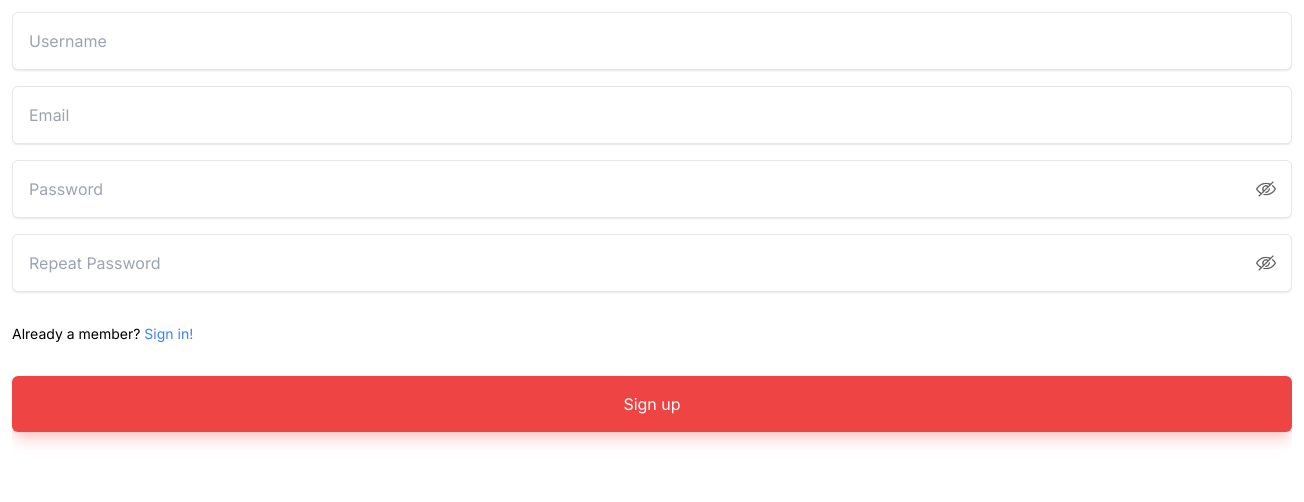
Test: <SignupForm /> › 1. Displays error message for empty username
Type "test@example.com" into the field with test id "InputField.Input" showing "Email" at (652,115), box [12, 86, 1292, 144]
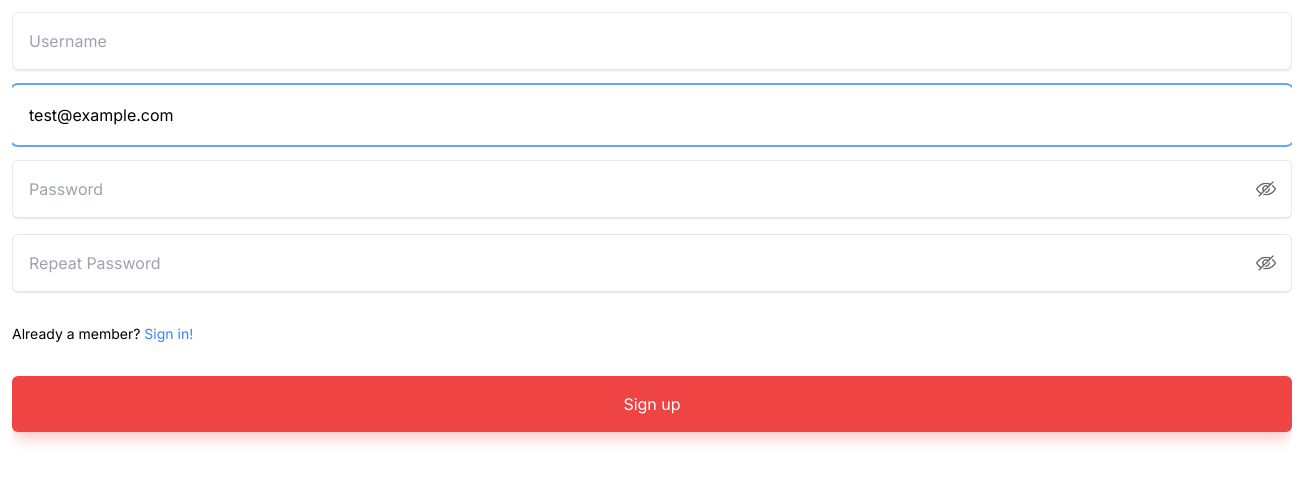
Type "Password1!" into the password field with test id "PasswordInput.Input" showing "Password" at (652,189), box [12, 160, 1292, 218]
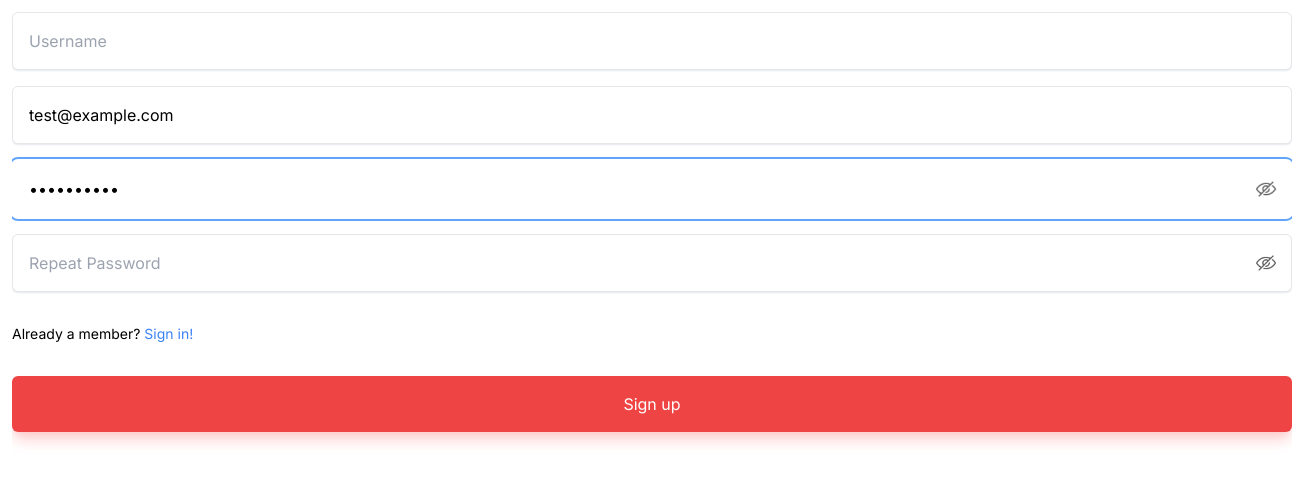
Type "Password1!" into the password field with test id "PasswordInput.Input" showing "Repeat Password" at (652,263), box [12, 234, 1292, 292]
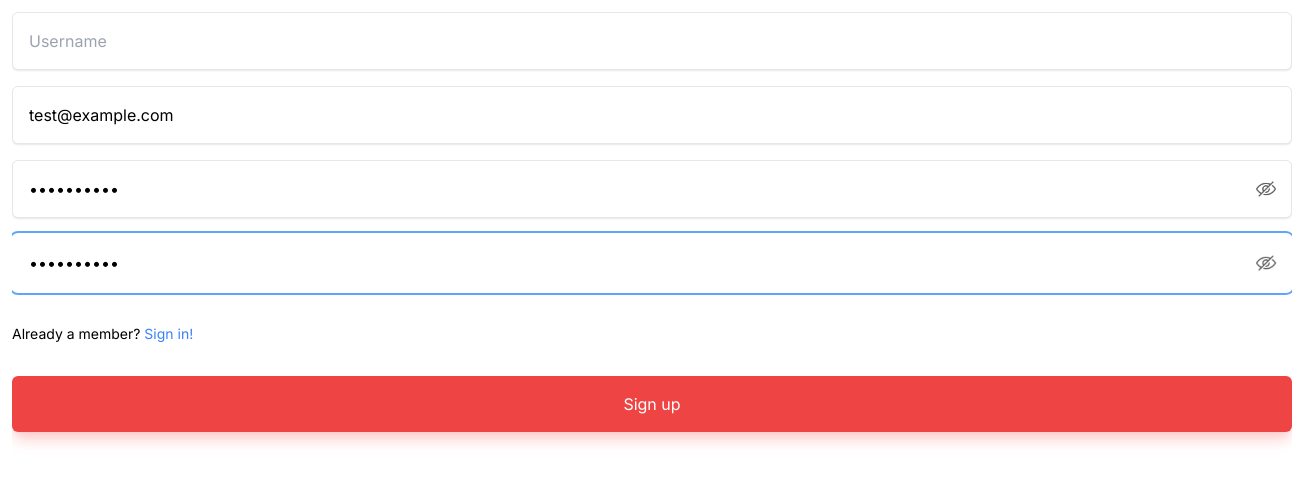
Click the button with test id "SubmittingButton" at (652,404), box [12, 376, 1292, 432]
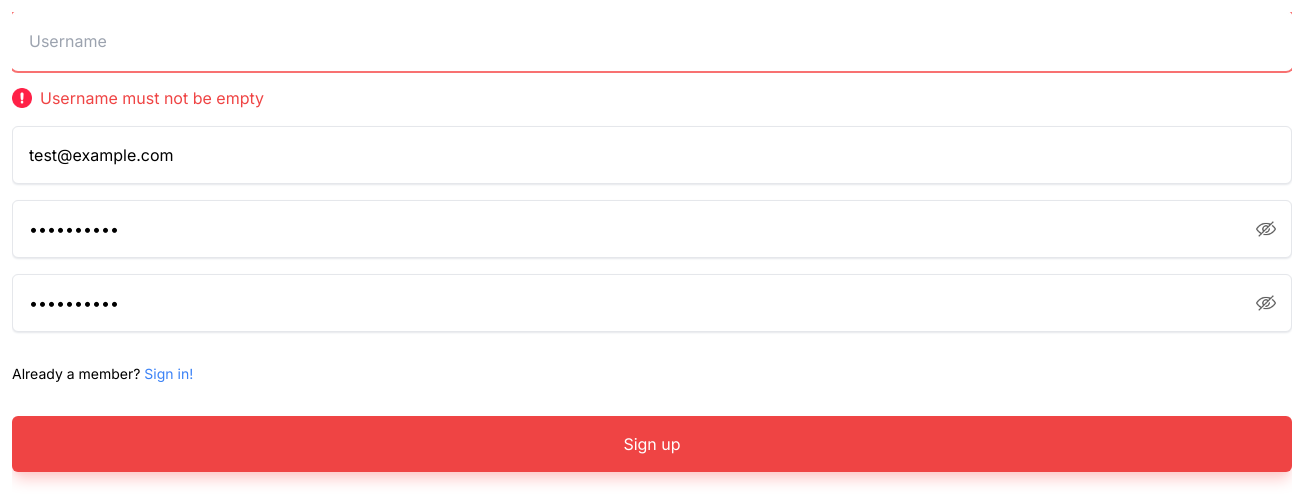
expect the text with test id "ErrorMessageComponent.Message" reads "Username must not be empty": met, box [40, 88, 264, 108]
